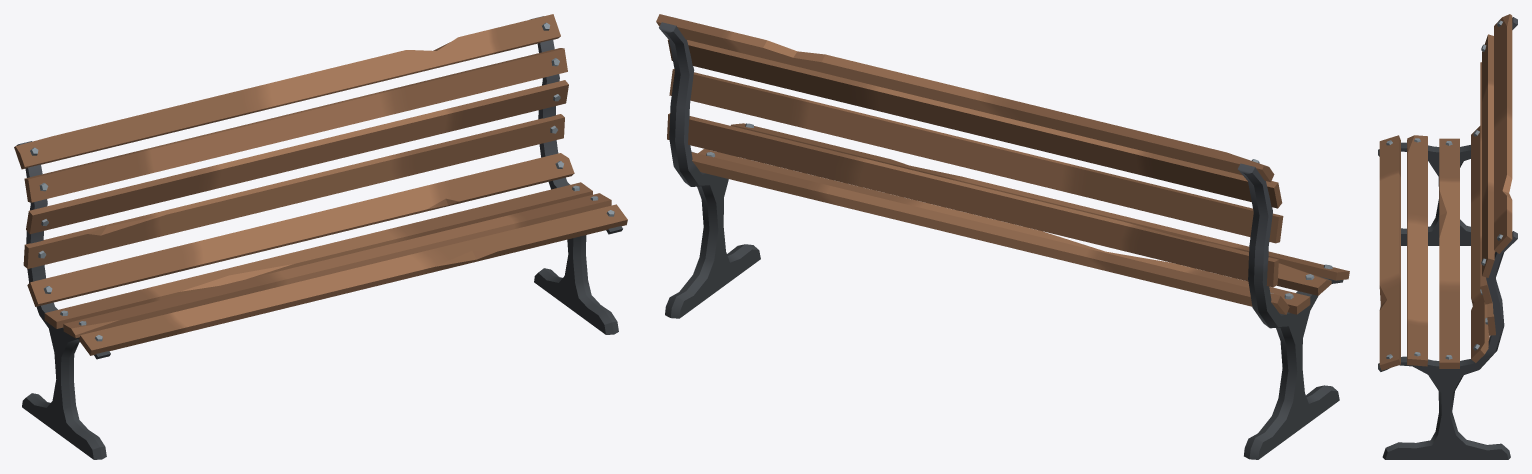
File: SM_Prop_Bench_Seat_01.glb
3 views of the same model, side by side, from view 1: azimuth 30°, elevation 25°; view 2: azimuth 150°, elevation 25°; view 3: azimuth 270°, elevation 25° (orthographic). The views are drawn at different scales.
Visible parts, largest first — view 1: SM_Prop_Bench_Seat_01; view 2: SM_Prop_Bench_Seat_01; view 3: SM_Prop_Bench_Seat_01.
Part boxes in pixels (x1,y1,x2,y2): SM_Prop_Bench_Seat_01: [14, 14, 627, 459]; SM_Prop_Bench_Seat_01: [656, 14, 1349, 459]; SM_Prop_Bench_Seat_01: [1378, 14, 1517, 459].
Size of the model in its own units: 2.21 by 1.04 by 0.5825.
1 material, 1 textured.
